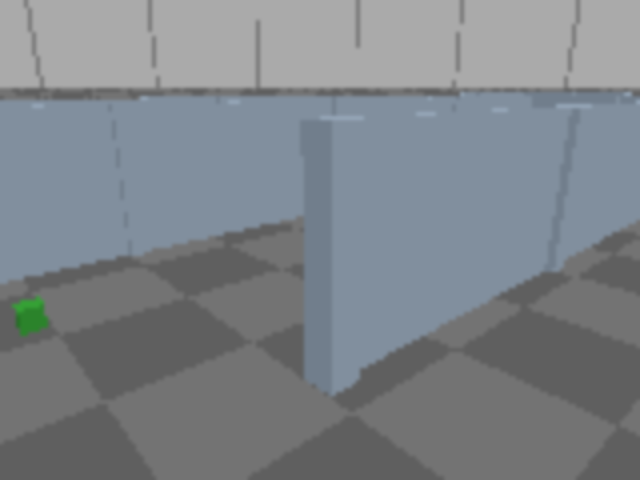puck: (13, 298, 49, 335)
